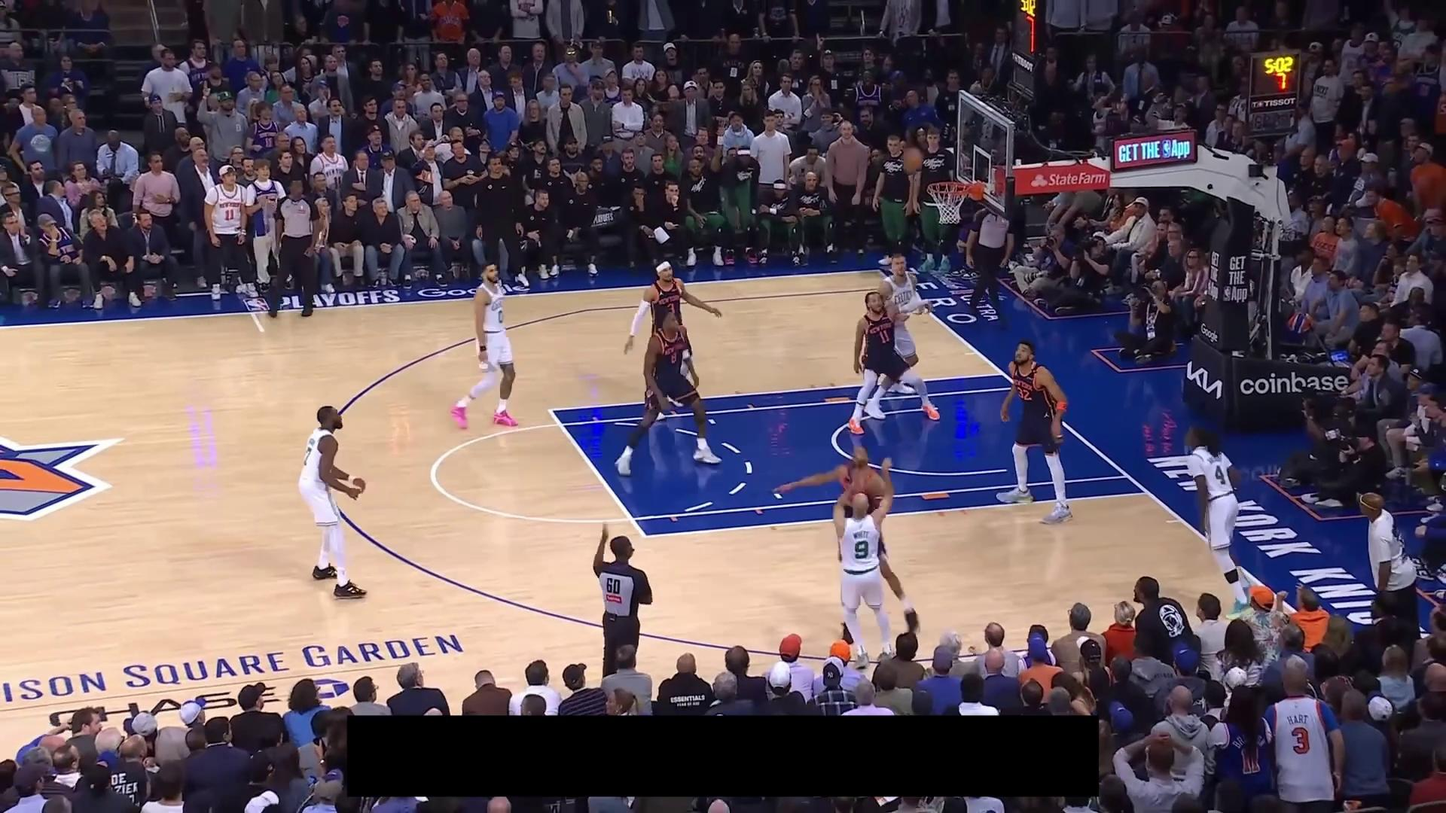ball: (901, 146, 925, 173)
number: (1213, 464, 1227, 486), (854, 540, 869, 559), (303, 446, 313, 467), (878, 328, 890, 344), (496, 309, 505, 324), (670, 352, 678, 364)
player: (773, 444, 921, 645), (612, 310, 725, 478), (621, 258, 724, 422), (995, 337, 1074, 525), (1184, 422, 1258, 621), (297, 403, 368, 601), (846, 288, 940, 437), (833, 456, 896, 670), (449, 258, 520, 431), (864, 252, 921, 419)
referee: (591, 520, 654, 680), (267, 177, 327, 318), (965, 205, 1015, 319)
rim: (926, 181, 970, 195)
